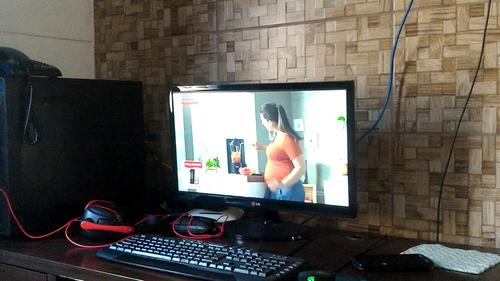Polishop #1: (181, 159, 202, 187)
